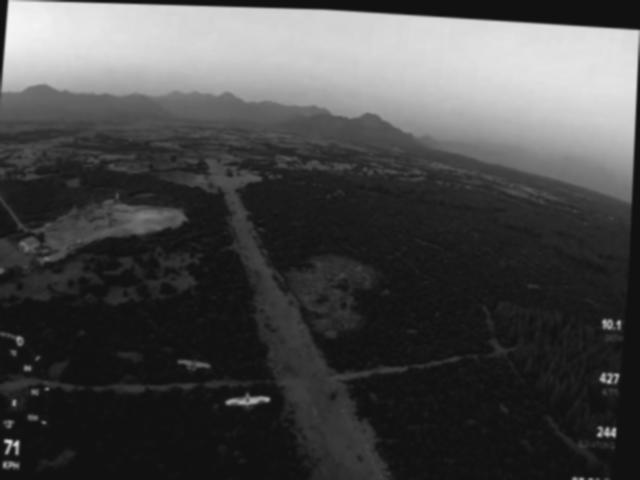hedef: (227, 382, 274, 414), (176, 345, 217, 375)
